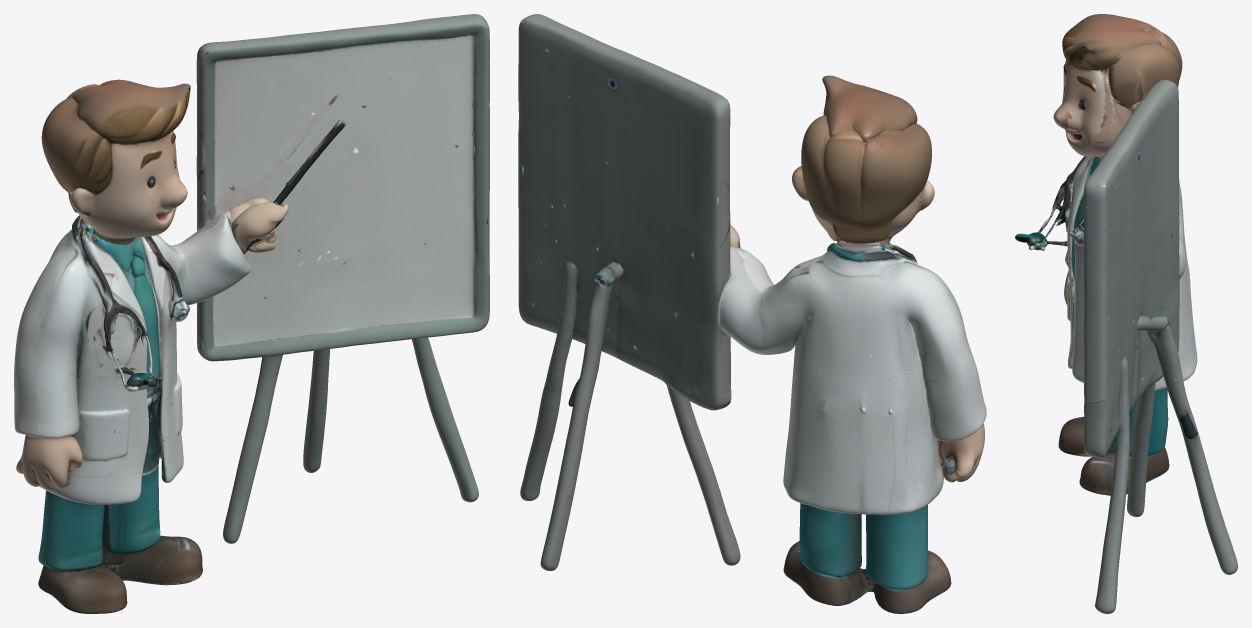
Rendered from Diagnosis.glb.
The picture shows the model from 3 angles, left to right: view 1: azimuth 30°, elevation 25°; view 2: azimuth 150°, elevation 25°; view 3: azimuth 270°, elevation 25°; orthographic projection. The views are drawn at different scales.
Size of the model in its own units: 1.98 by 2 by 0.9165.
Materials: 1 (1 with a texture image).
